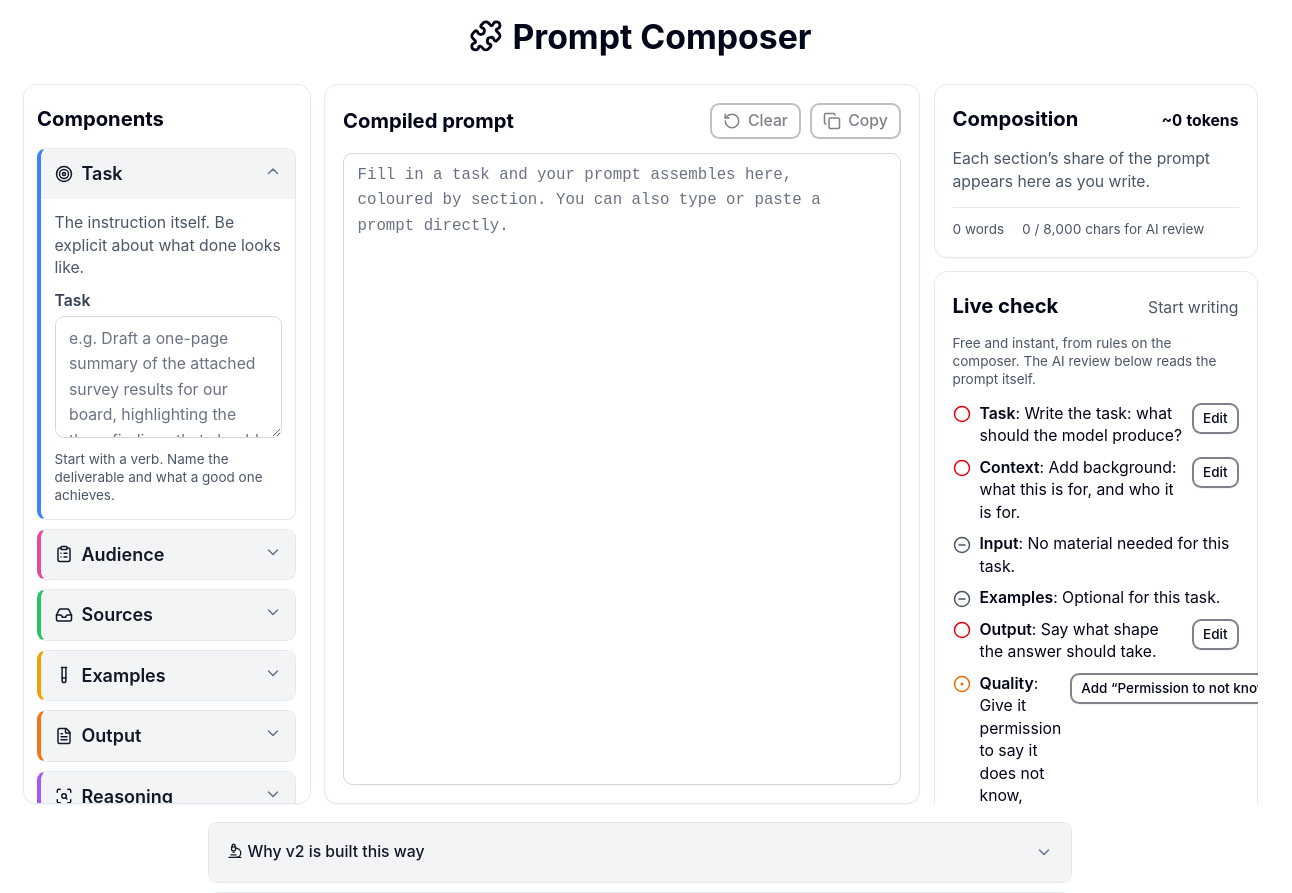
PromptComposer v2 › opens and focuses the field a live-check fix points at
Replace the text in the text box labelled "Task" with "Summarize the attached report for the board meeting" at (168, 377), box top-left (54, 316), bottom-right (282, 438)
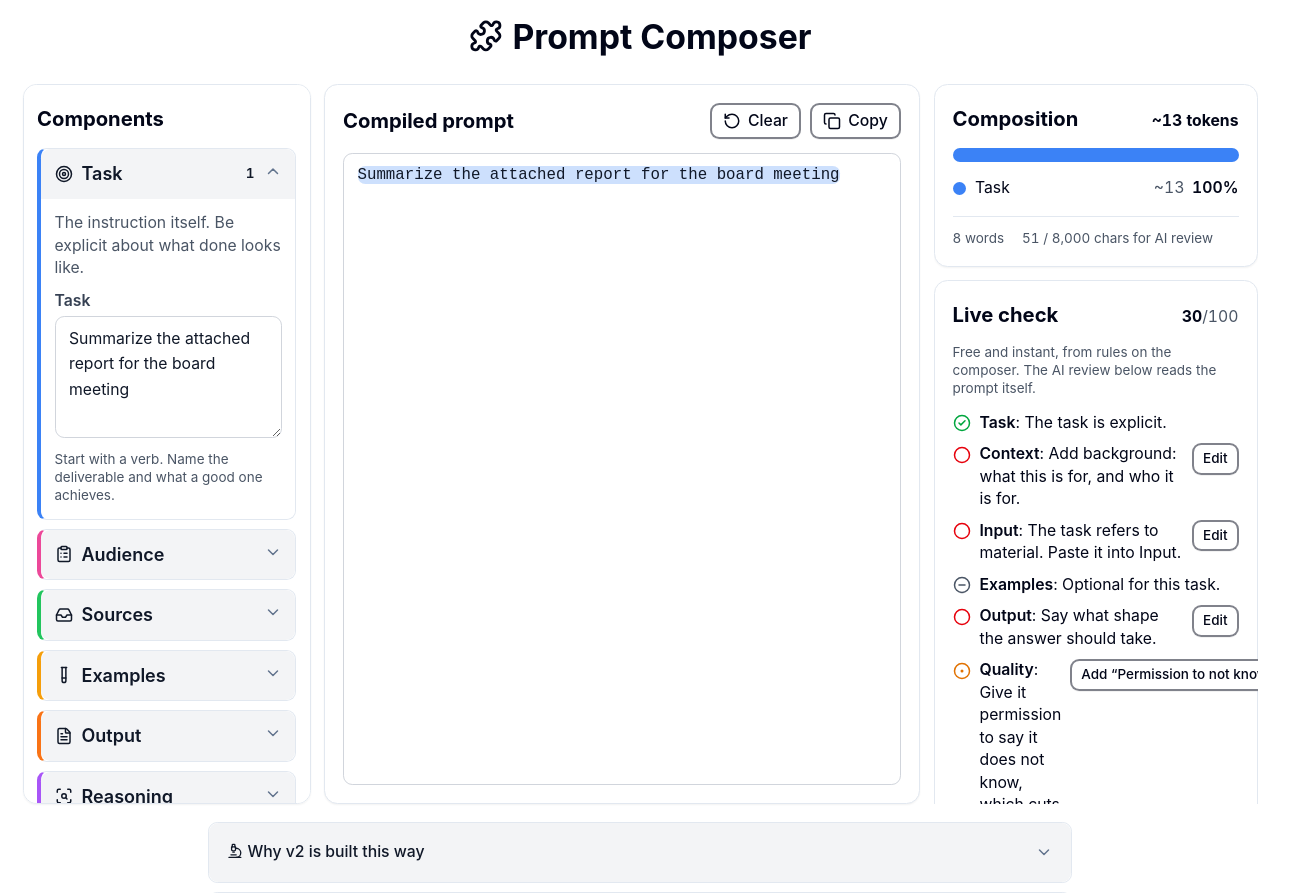
Click the button with aria-label "edit for input" at (1215, 536), box top-left (1192, 520), bottom-right (1238, 551)
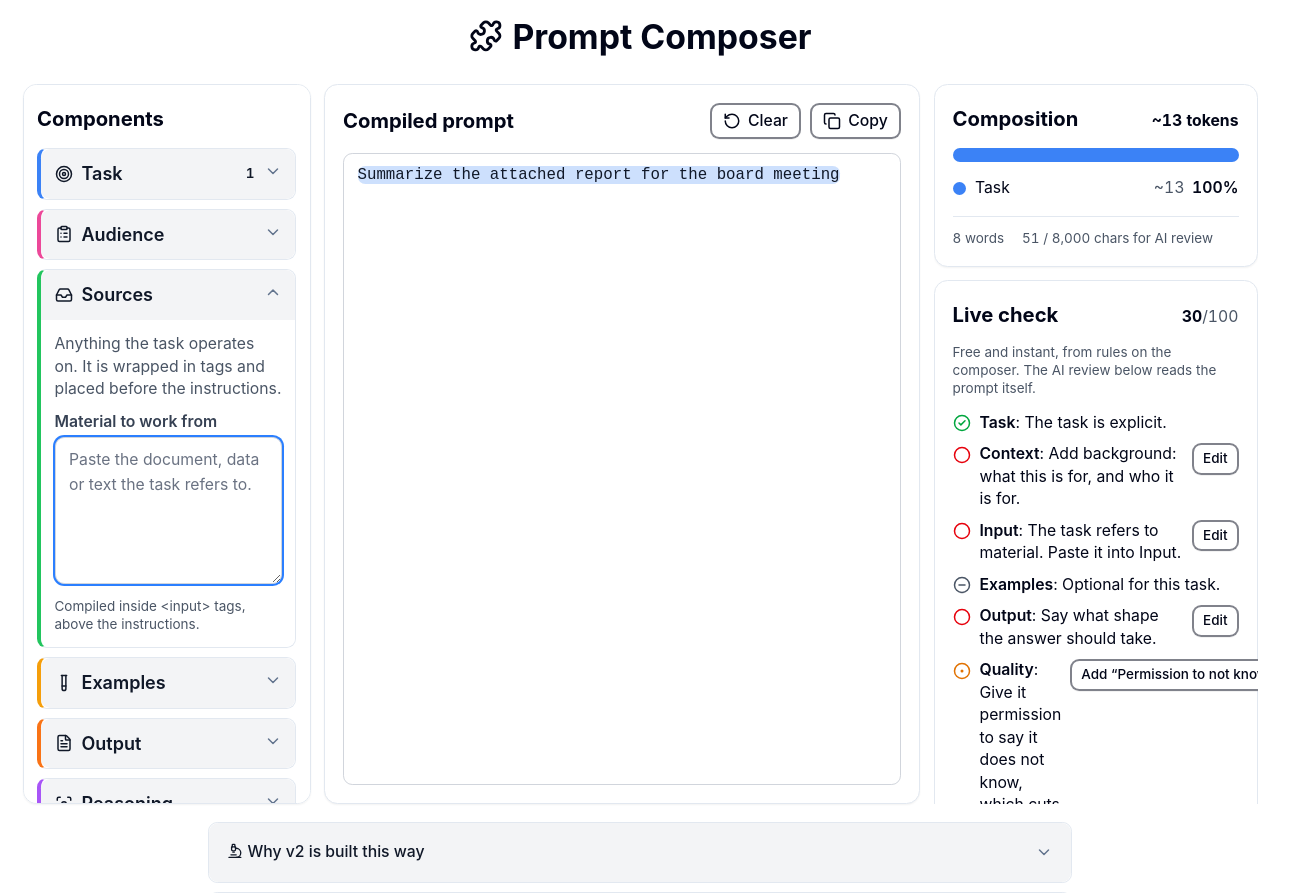
Result: the button "Sources" is expanded at top-left (41, 270), bottom-right (295, 320)
Result: the button "Task 1" is collapsed at top-left (41, 149), bottom-right (295, 198)
